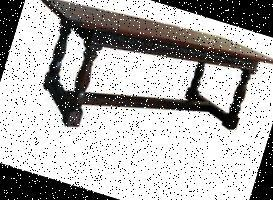Mesa: (4, 0, 272, 178)
